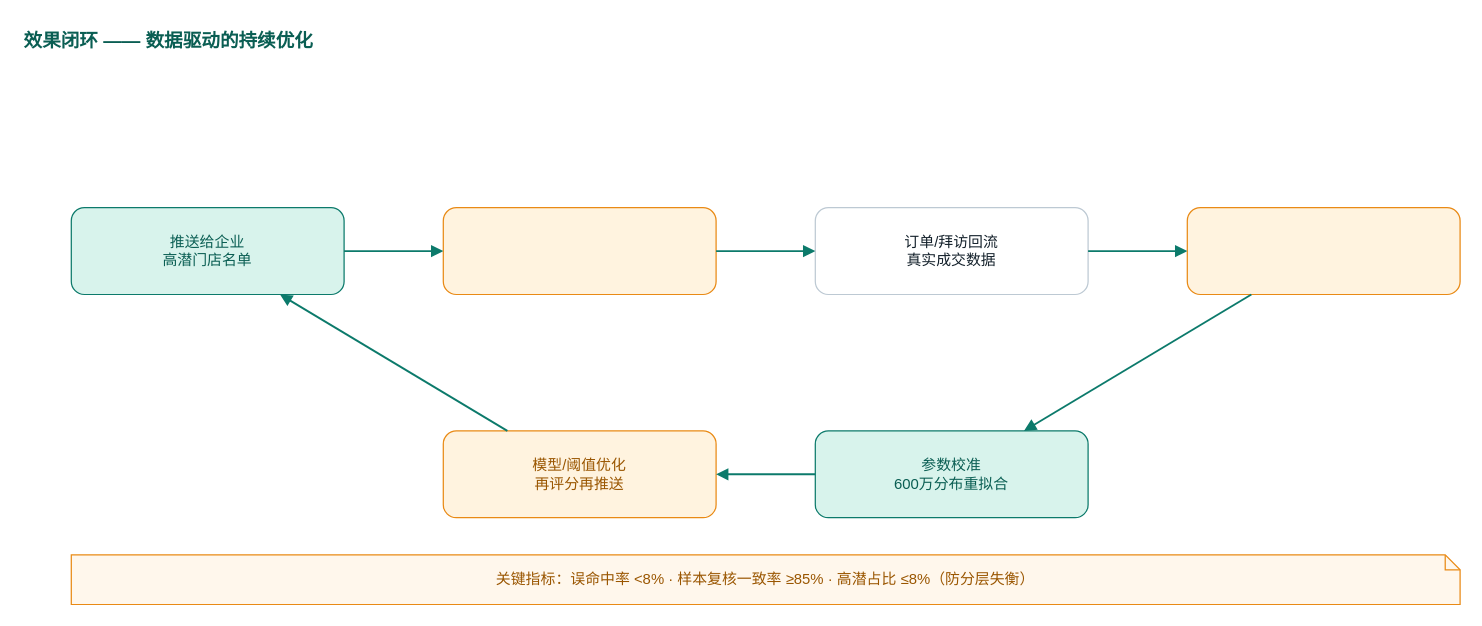
This 1482x626 diagram has some shape labels left out. Each missing label, with the centre of its shape:
"效果评估 误命中率/渗透提升" belongs at (x=1323, y=250).
"销售执行 按画像动作拜访" belongs at (x=579, y=250).
